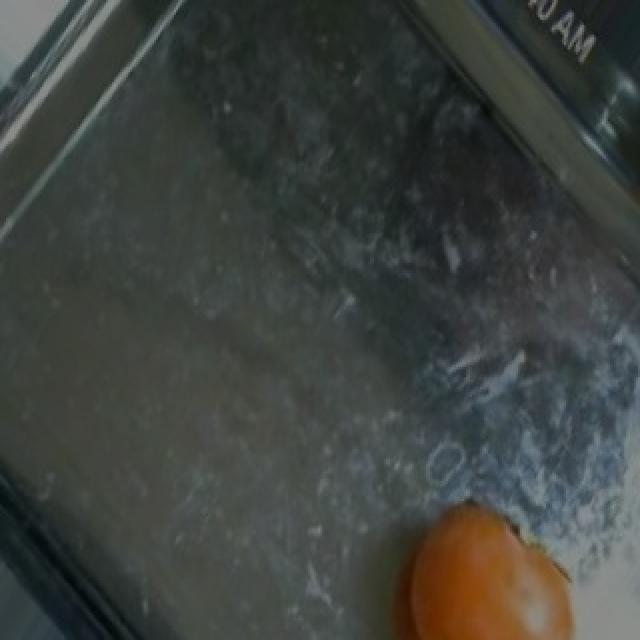Fruit: (370, 488, 600, 640)
